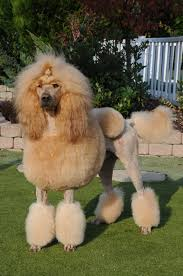Bulldog: (4, 27, 177, 252)
